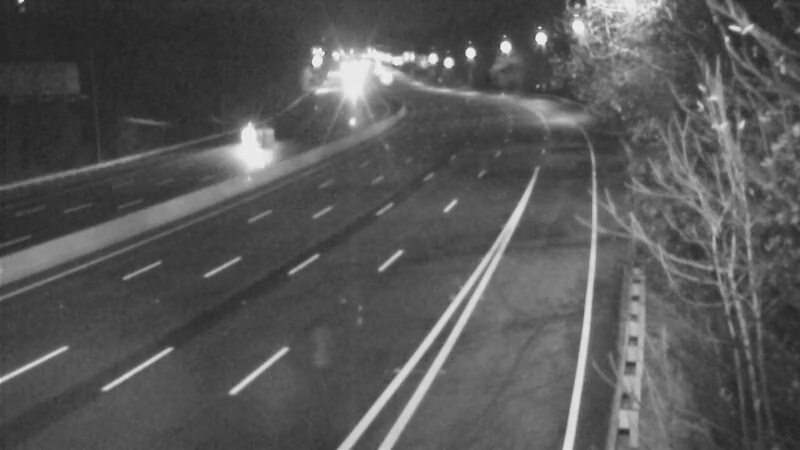vehicle: (219, 109, 269, 159)
